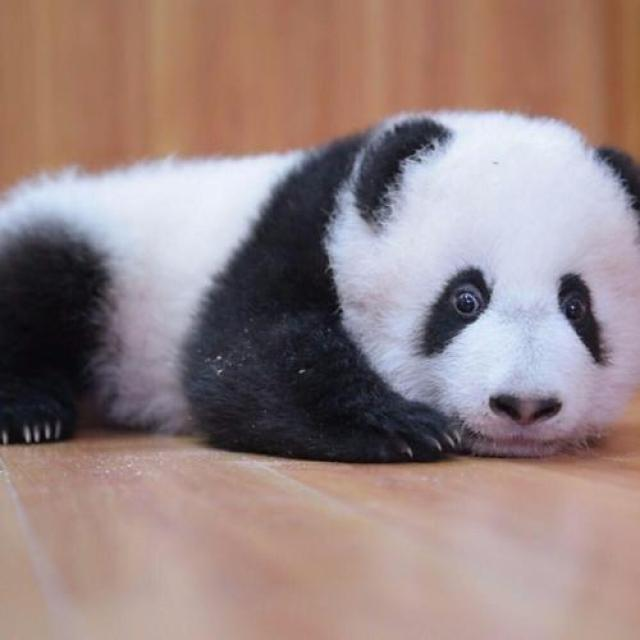panda: (0, 102, 640, 475)
